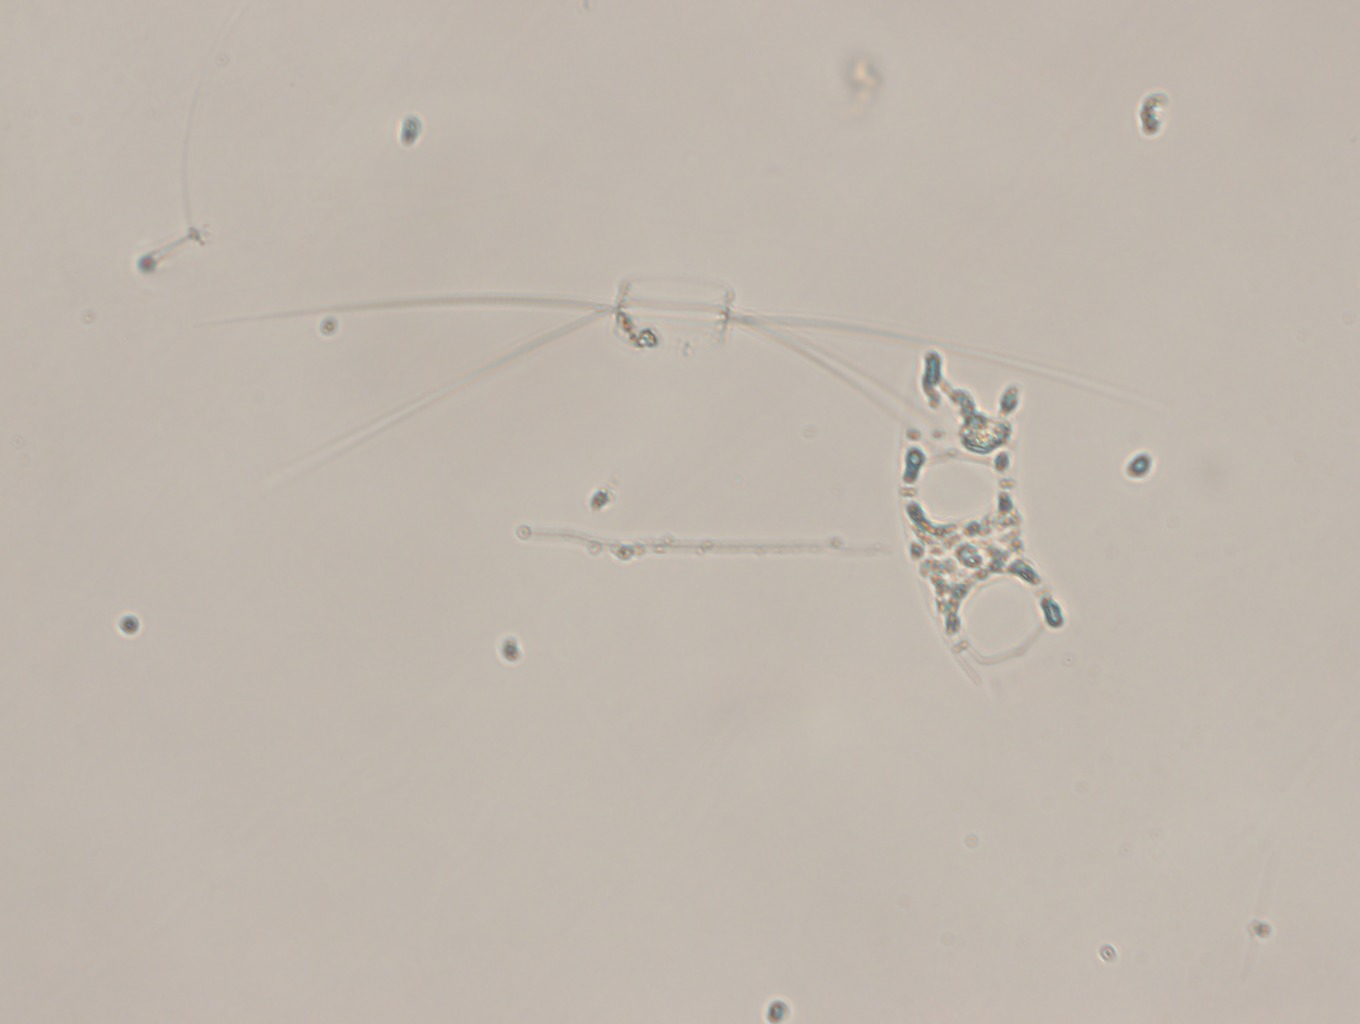chaetoceros: (202, 264, 1184, 477)
eucampia: (899, 346, 1063, 680)
